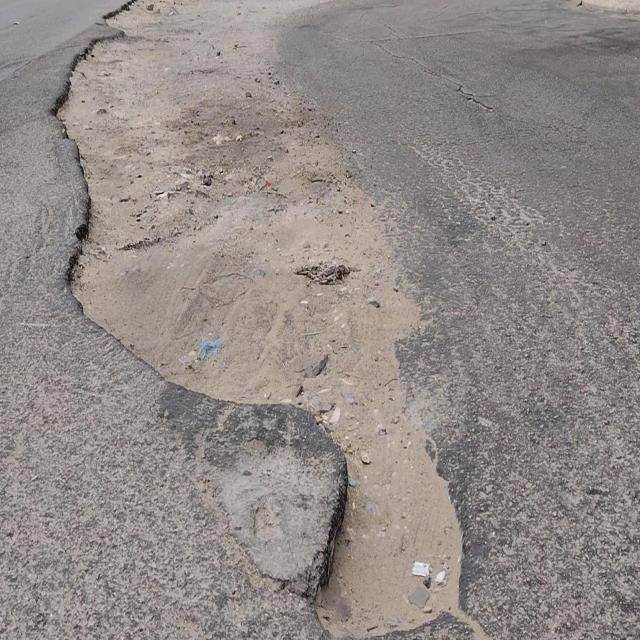Potholes: (302, 418, 469, 640), (64, 193, 156, 317), (44, 61, 110, 141), (82, 30, 131, 65)
